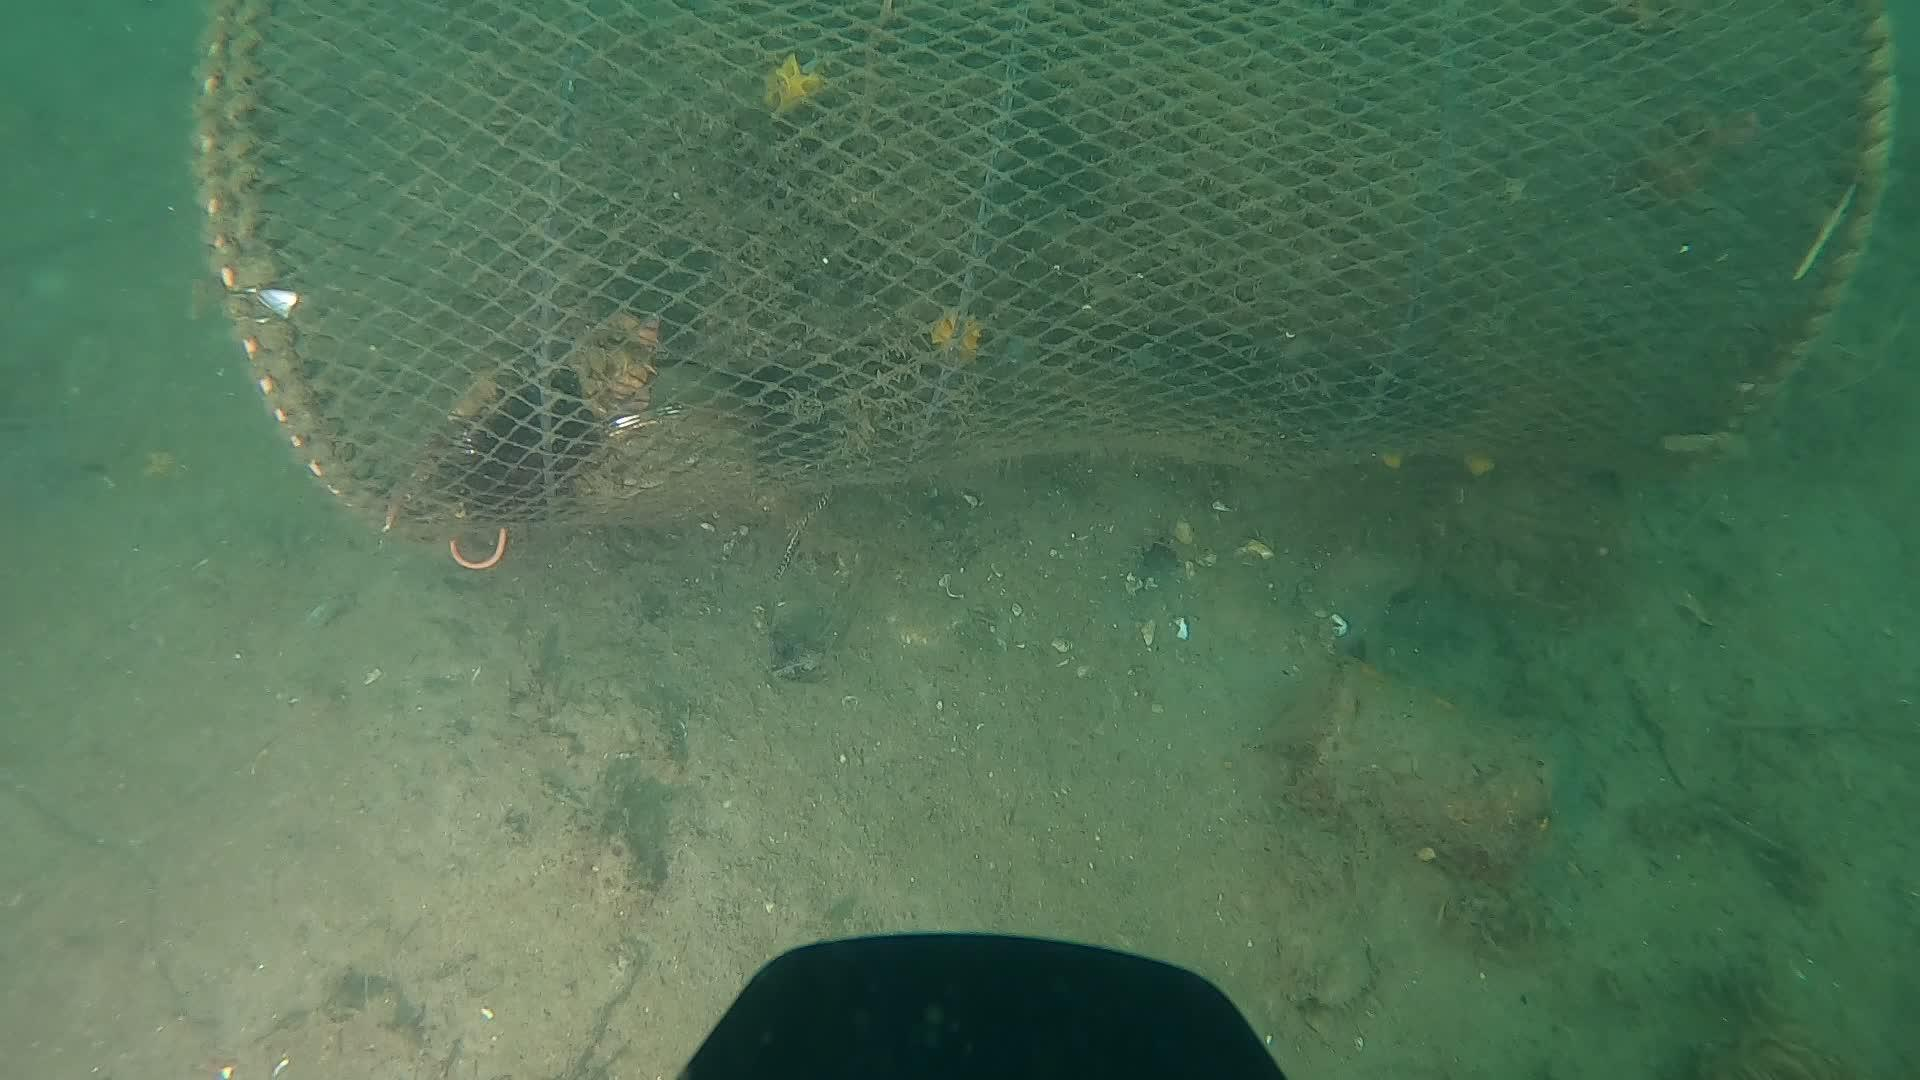spring fish trap: (189, 0, 1902, 545)
